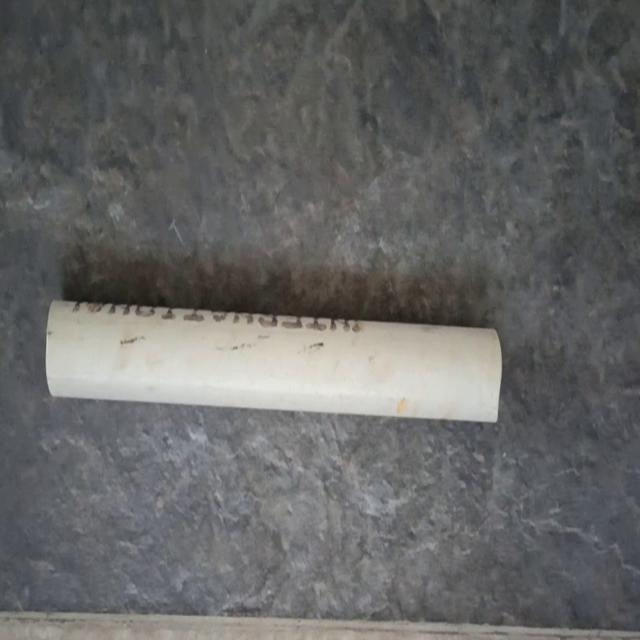Cube: (45, 296, 503, 425)
